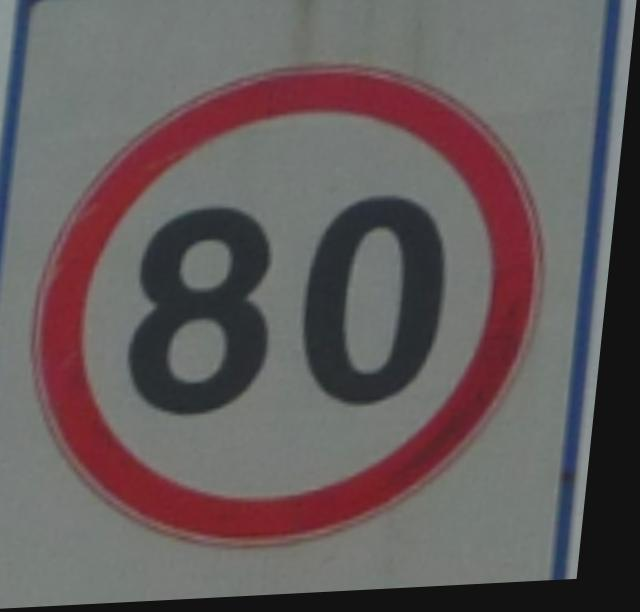limit80: (13, 40, 579, 576)
